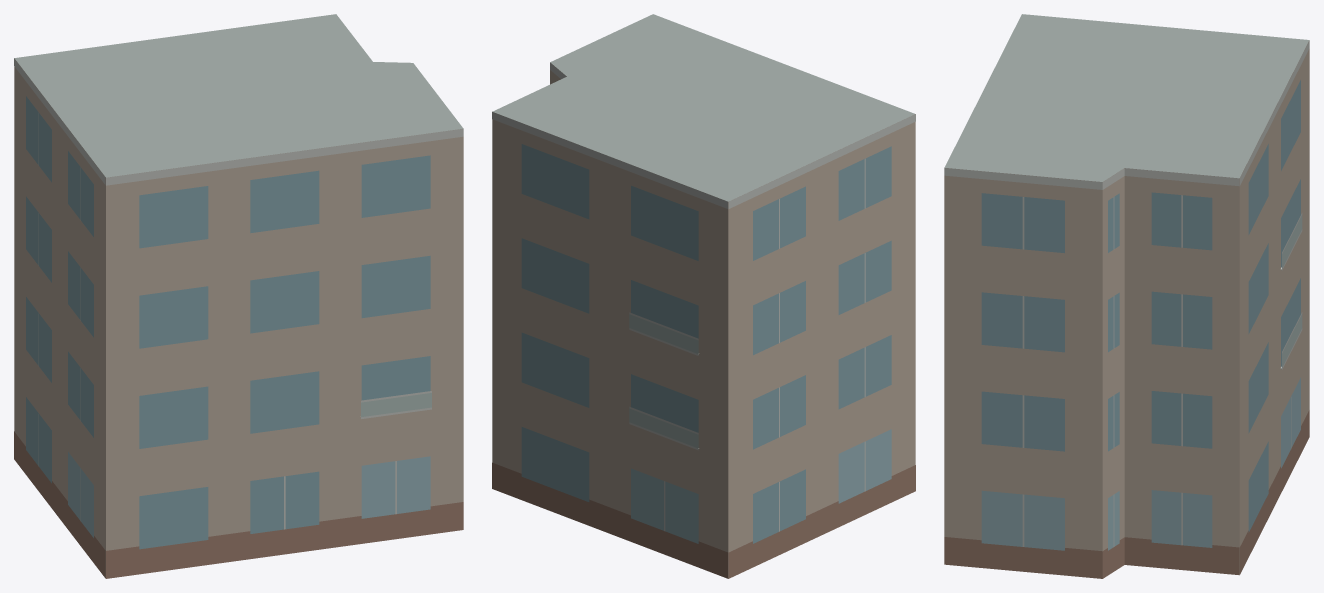
File: residential-4d0d5a2a-9ec2-482a-9dad-77064cadfaf0.glb
The picture shows the model from 3 angles, left to right: view 1: azimuth 30°, elevation 25°; view 2: azimuth 150°, elevation 25°; view 3: azimuth 270°, elevation 25°; orthographic projection. The views are drawn at different scales.
Parts seen in each view (by area): view 1: residential-4d0d5a2a-9ec2-482a-9dad-77064cadfaf0.tmp; view 2: residential-4d0d5a2a-9ec2-482a-9dad-77064cadfaf0.tmp; view 3: residential-4d0d5a2a-9ec2-482a-9dad-77064cadfaf0.tmp.
Part boxes in pixels (x1,y1,x2,y2): residential-4d0d5a2a-9ec2-482a-9dad-77064cadfaf0.tmp: [14, 14, 463, 578]; residential-4d0d5a2a-9ec2-482a-9dad-77064cadfaf0.tmp: [492, 14, 915, 578]; residential-4d0d5a2a-9ec2-482a-9dad-77064cadfaf0.tmp: [944, 14, 1309, 578].
Size of the model in its own units: 11.09 by 12.2 by 10.19.
